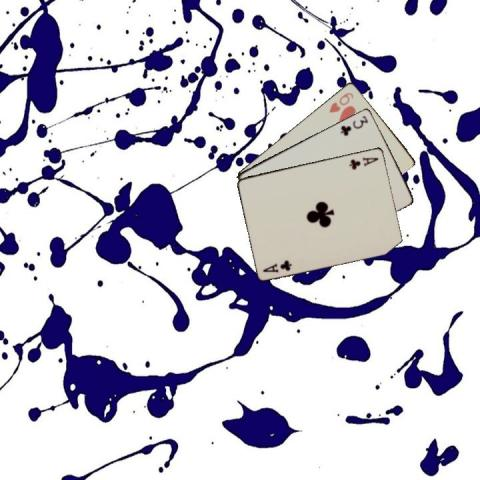3c: (338, 113, 369, 137)
6h: (326, 89, 355, 114)
Ac: (260, 257, 293, 274), (346, 154, 380, 170)
